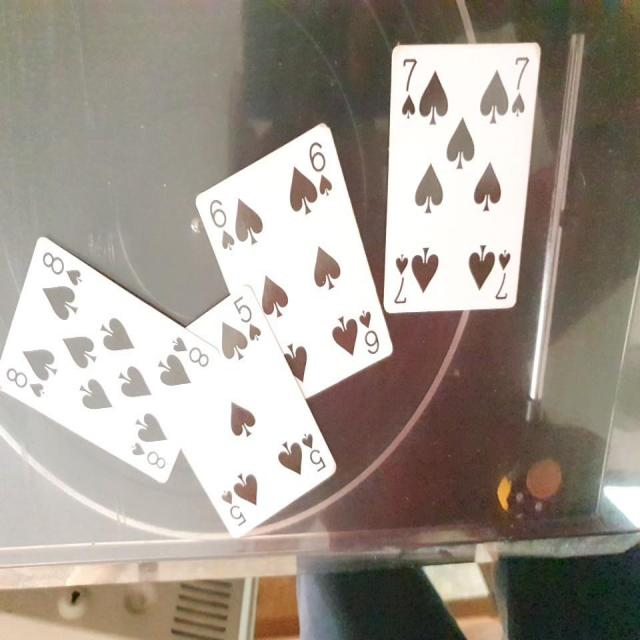5 Spades: (154, 296, 342, 555)
6 Spades: (172, 110, 395, 390)
7 Spades: (377, 36, 551, 324)
8 Spades: (2, 228, 222, 497)
